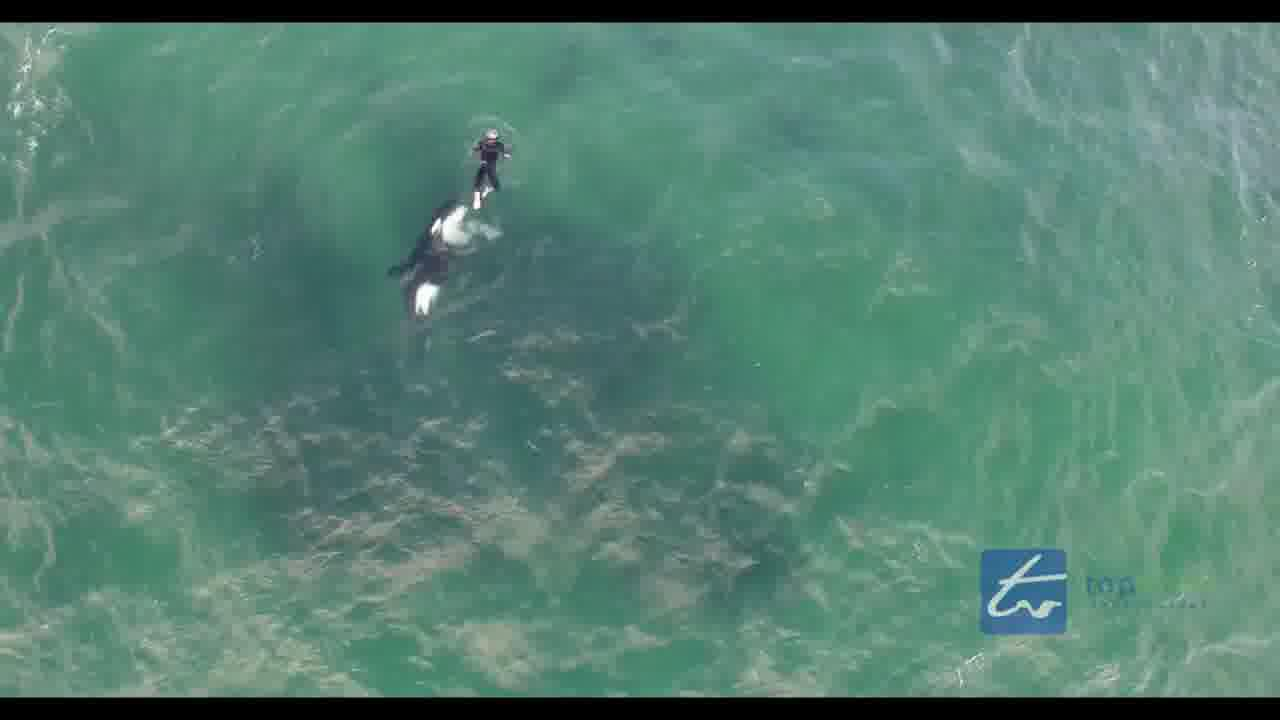human: (468, 116, 507, 215)
